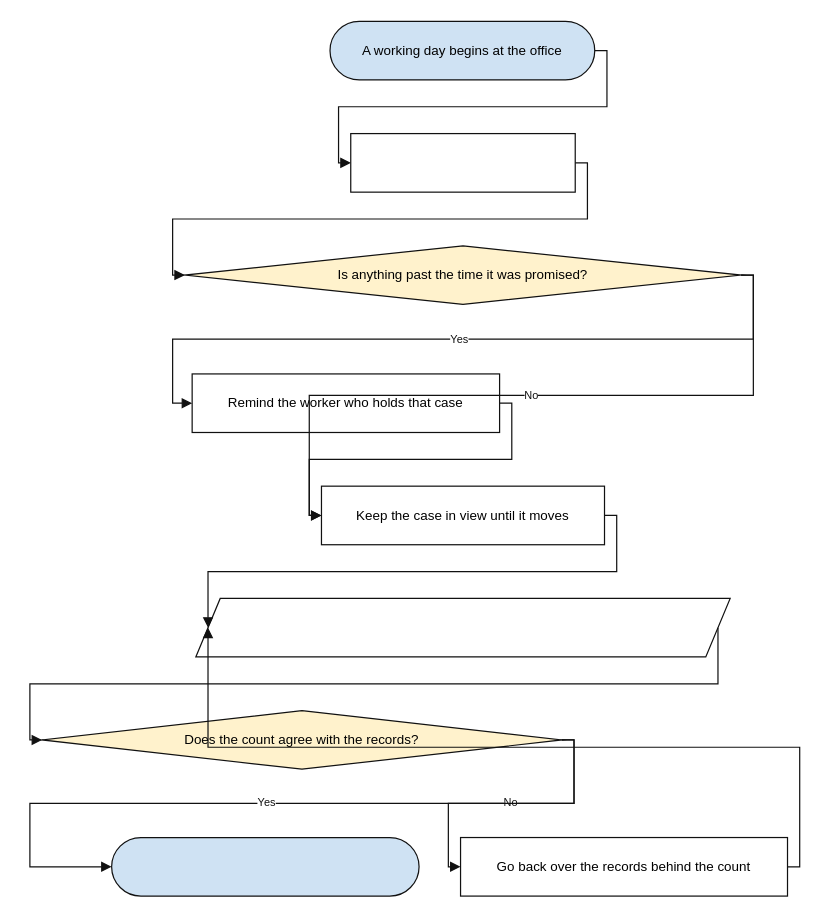
Some shapes in this 831 by 917 pixel diagram are drawn without their labels. The centre of each missing label's shape, as x and y in pixels:
"Count the work of the day or the period" goes at [462,627].
"Open the day's list of cases" goes at [462,162].
"The office knows where its cases stand" goes at [264,866].
